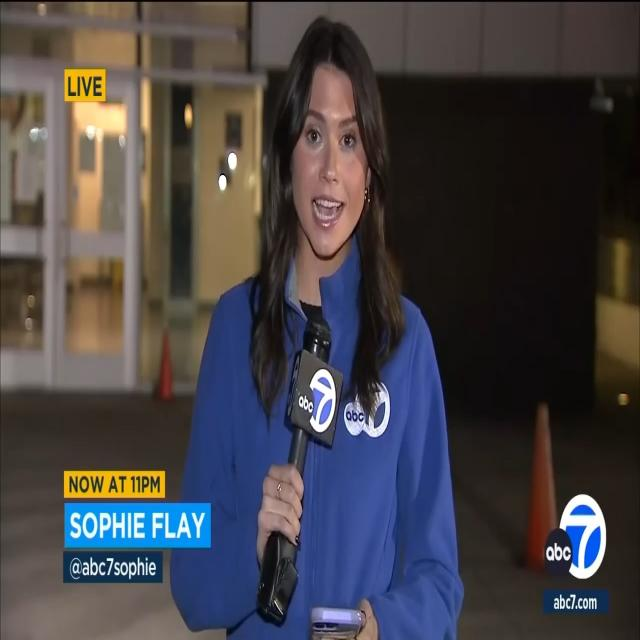microphone: (258, 305, 338, 626)
